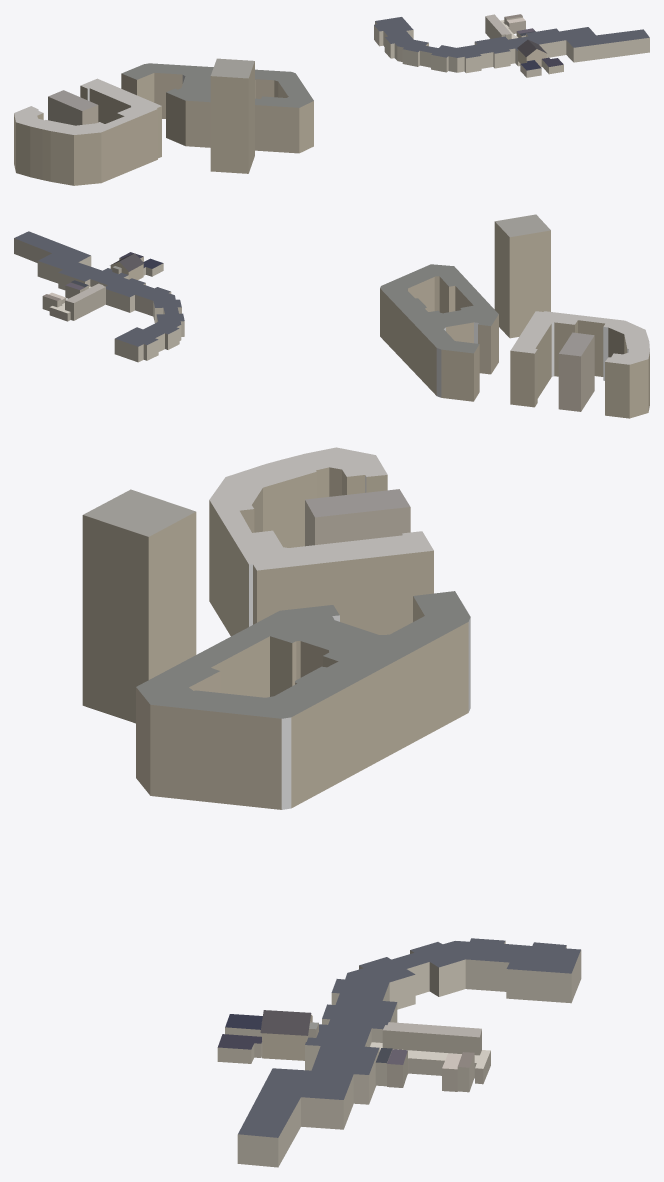
3 renders of one model, top to bottom at view 1: azimuth 30°, elevation 25°; view 2: azimuth 150°, elevation 25°; view 3: azimuth 270°, elevation 25°, orthographic. The views are drawn at different scales.
Visible parts, largest first — view 1: tuile; view 2: tuile; view 3: tuile.
Boxes of the visible parts, x1,y1,x2,y2 form: tuile: [14, 14, 649, 185]; tuile: [14, 214, 649, 418]; tuile: [82, 447, 581, 1167].
Bounding box in the file's own units: 324 × 55.5 × 114.
